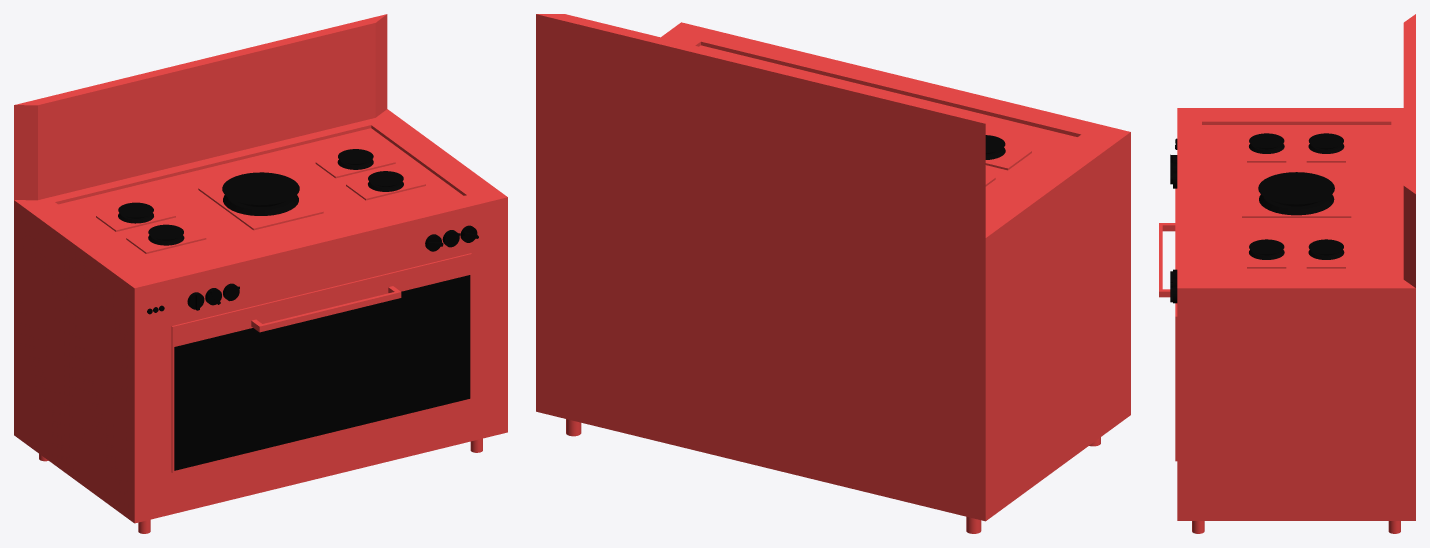
Rendered from Stove.fbx.
3 renders of one model, left to right at view 1: azimuth 30°, elevation 25°; view 2: azimuth 150°, elevation 25°; view 3: azimuth 270°, elevation 25°, orthographic. The views are drawn at different scales.
Parts seen in each view (by area): view 1: Stove; view 2: Stove; view 3: Stove.
Boxes of the visible parts, box(x1,y1,x2,y2) form: Stove: box(14, 14, 507, 533); Stove: box(536, 14, 1130, 533); Stove: box(1159, 14, 1415, 533).
Size of the model in its own units: 190 by 171 by 114.
